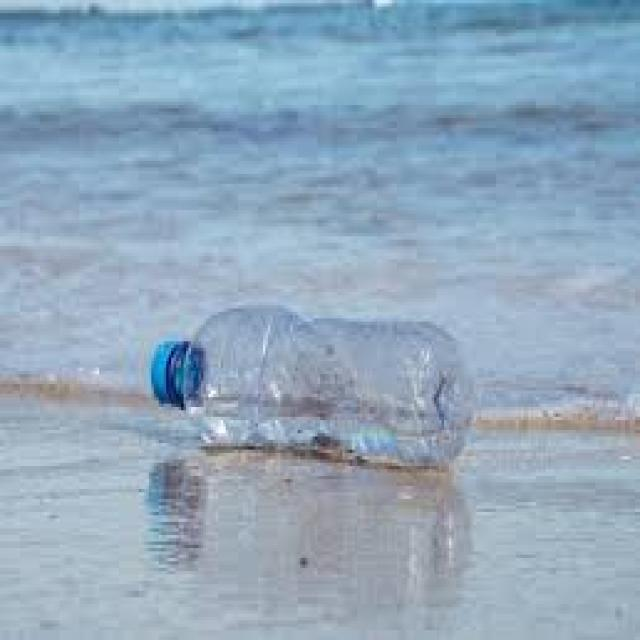plastic bottle: (148, 303, 496, 450)
